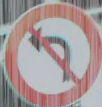Don't turn left: (3, 3, 96, 97)
